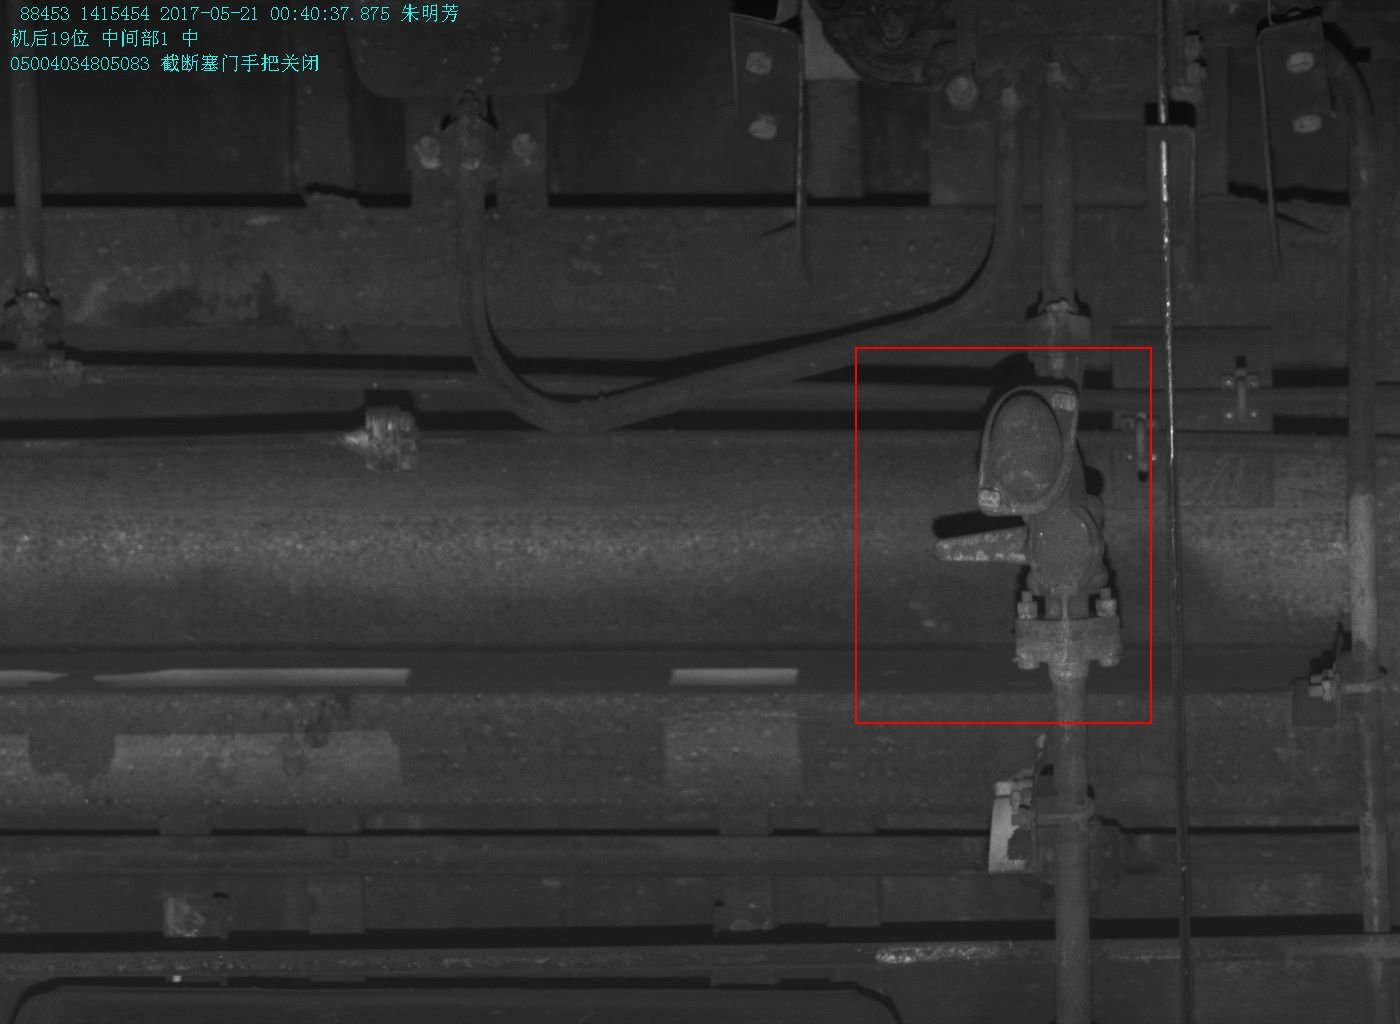normal: (932, 505, 1111, 587)
